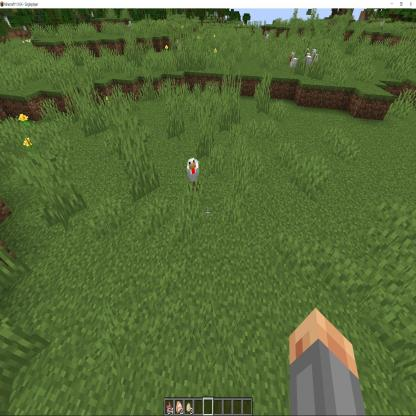minecraft-pigs: (187, 154, 199, 192), (290, 51, 299, 75), (311, 49, 319, 69), (304, 49, 311, 71), (264, 30, 270, 43)
